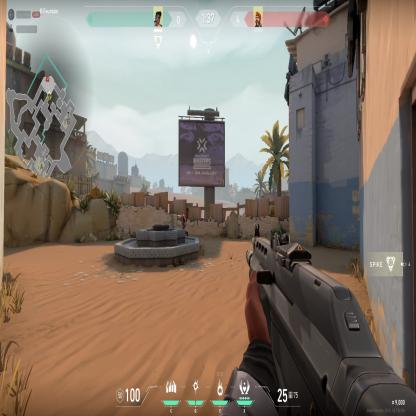enemy: (179, 210, 188, 237)
